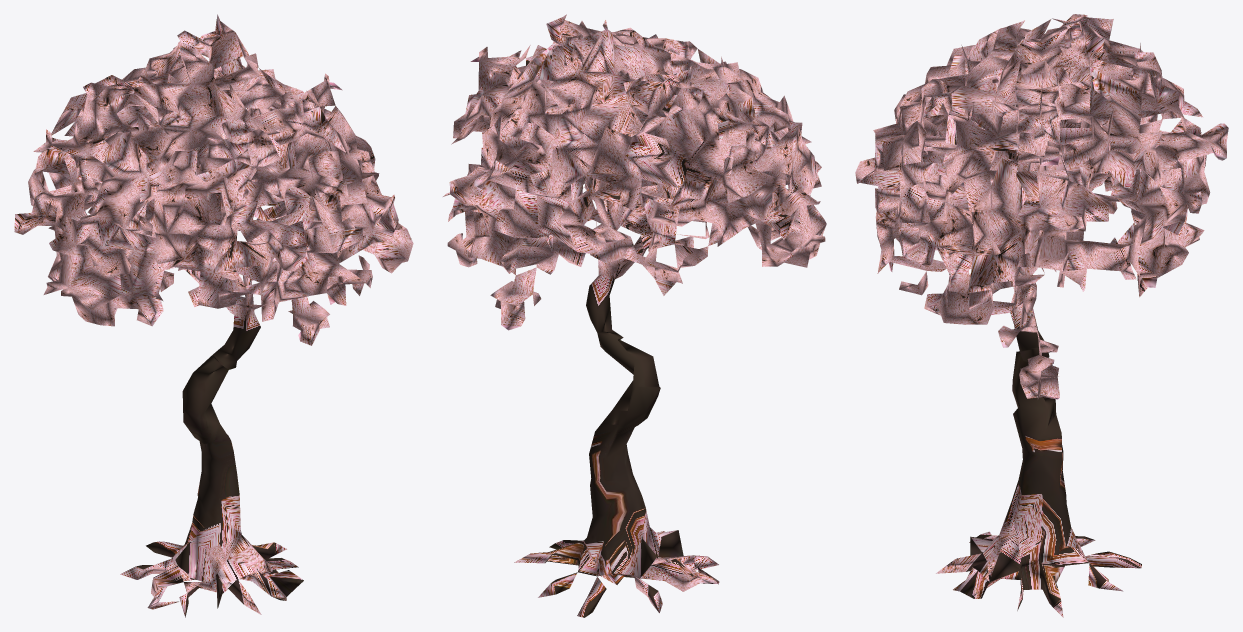
Rendered from cherry.glb.
3 renders of one model, left to right at view 1: azimuth 30°, elevation 25°; view 2: azimuth 150°, elevation 25°; view 3: azimuth 270°, elevation 25°, orthographic. The views are drawn at different scales.
Bounding box in the file's own units: 1.23 × 1.88 × 1.15.
Materials: 1 (1 with a texture image).
